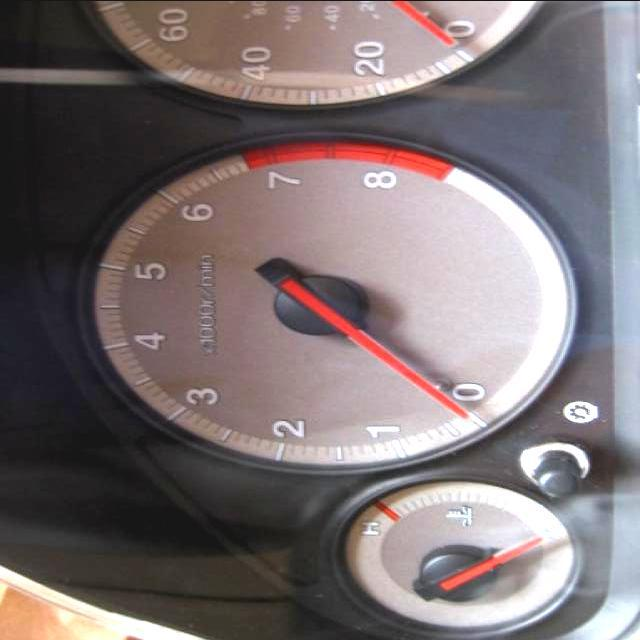Needle_Tip: (438, 397, 482, 423)
Needle_base: (262, 268, 373, 341)
max_value: (349, 157, 407, 196)
min_value: (450, 376, 494, 408)
